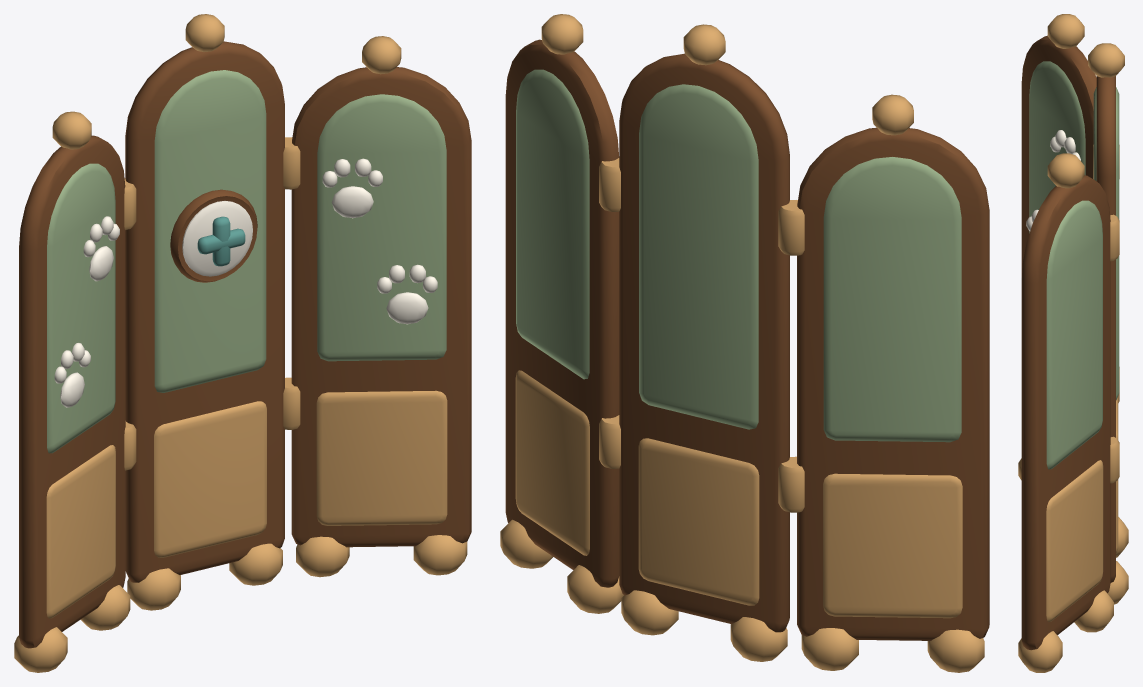
The model's file is ShopFolderScreen.fbx.
3 renders of one model, left to right at view 1: azimuth 30°, elevation 25°; view 2: azimuth 150°, elevation 25°; view 3: azimuth 270°, elevation 25°, orthographic. The views are drawn at different scales.
Parts seen in each view (by area): view 1: ShopFolderScreen; view 2: ShopFolderScreen; view 3: ShopFolderScreen.
Boxes of the visible parts, x1,y1,x2,y2 form: ShopFolderScreen: (14, 14, 471, 672); ShopFolderScreen: (500, 14, 989, 672); ShopFolderScreen: (1018, 14, 1128, 672).
Size of the model in its own units: 1.23 by 1.52 by 0.2831.
